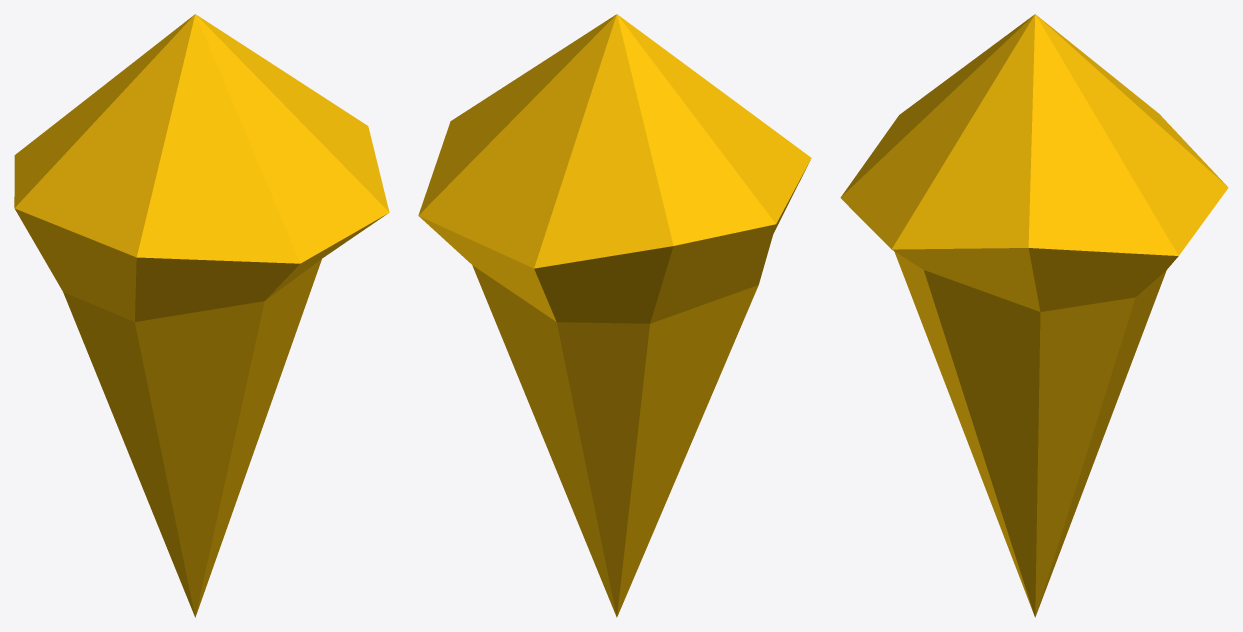
File: crystal_boss_shielding_crystal.obj
3 renders of one model, left to right at view 1: azimuth 30°, elevation 25°; view 2: azimuth 150°, elevation 25°; view 3: azimuth 270°, elevation 25°, orthographic.
Visible parts, largest first — view 1: Cylinder; view 2: Cylinder; view 3: Cylinder.
Part boxes in pixels (<box>): Cylinder: <box>14,14,389,617</box>; Cylinder: <box>418,14,811,617</box>; Cylinder: <box>840,14,1228,617</box>.
Bounding box in the file's own units: 1.81 × 3.08 × 1.8.
